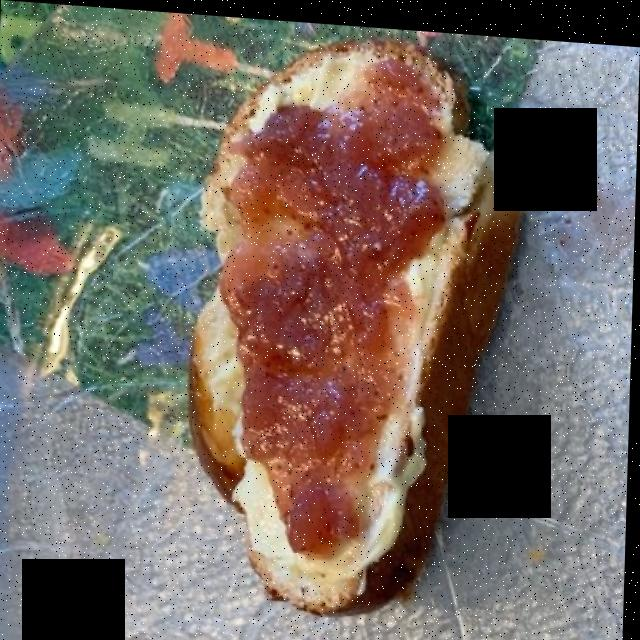braided-white-loaf: (192, 42, 518, 597)
butter: (208, 65, 451, 577)
jam: (228, 68, 440, 562)
